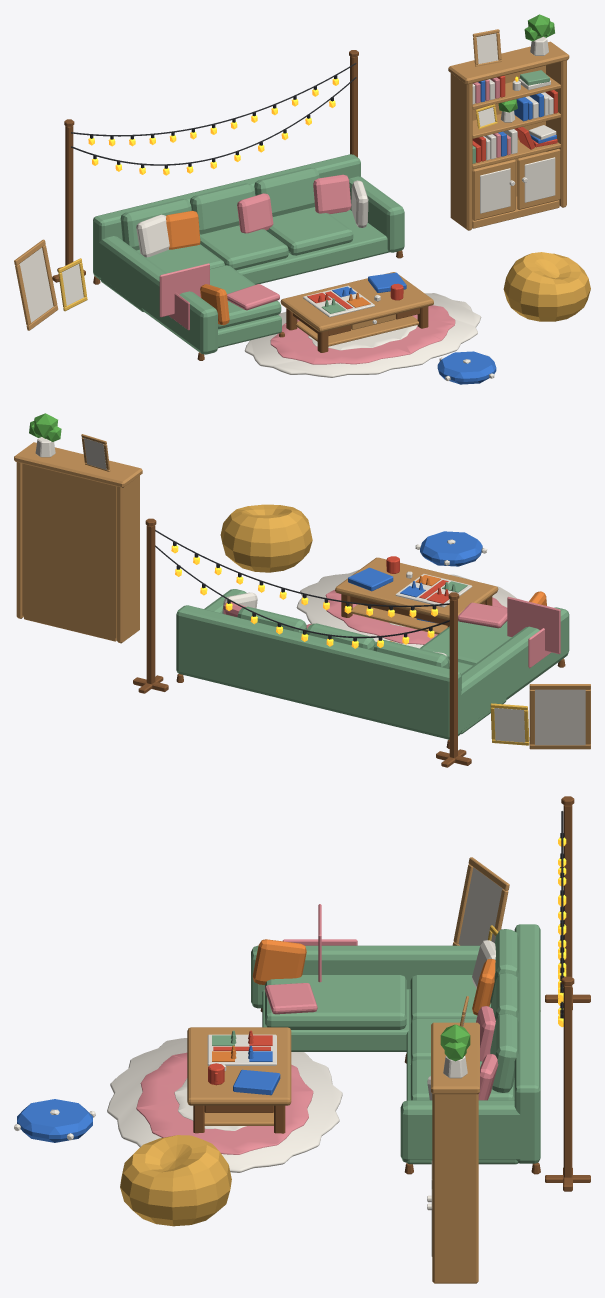
File: cosy-loft-lounge.glb
The picture shows the model from 3 angles, top to bottom: view 1: azimuth 30°, elevation 25°; view 2: azimuth 150°, elevation 25°; view 3: azimuth 270°, elevation 25°; orthographic projection. The views are drawn at different scales.
Visible parts, largest first — view 1: Sofa_ArmL, BeanBag_Body, Rug_Base, Rug_Top, Sofa_BaseMain, Shelf_SideL, Table_Top, Seat_3, Sofa_Back, Seat_2, Frame_Large, Shelf_Top (+37 smaller); view 2: Sofa_Back, Shelf_Back, BeanBag_Body, Sofa_ArmL, Frame_Large, Shelf_SideL, Table_Top, Shelf_Top, Seat_4, Rug_Base, Sofa_Blanket, FloorCushion_Body (+17 smaller); view 3: Shelf_SideR, BeanBag_Body, Rug_Base, Seat_4, Rug_Top, Sofa_ArmL, Sofa_Back, Table_Top, Sofa_ArmR, Frame_Large, Sofa_BaseChaise, Seat_1 (+18 smaller).
Boxes of the visible parts, x1,y1,x2,y2 form: Sofa_ArmL: (99,236,217,354); BeanBag_Body: (503,252,590,321); Rug_Base: (244,293,481,377); Rug_Top: (270,305,455,364); Sofa_BaseMain: (100,210,388,312); Shelf_SideL: (450,73,472,230); Table_Top: (280,272,433,332); Seat_3: (266,207,353,255); Sofa_Back: (93,154,360,280); Seat_2: (200,225,288,270); Frame_Large: (14,239,58,330); Shelf_Top: (448,41,569,84); Sofa_Back: (176,605,461,739); Shelf_Back: (22,463,116,638); BeanBag_Body: (220,504,312,572); Sofa_ArmL: (460,607,569,733); Frame_Large: (529,684,590,749); Shelf_SideL: (117,476,139,643); Table_Top: (335,557,498,620); Shelf_Top: (14,442,142,487); Seat_4: (420,621,511,665); Rug_Base: (296,569,521,648); Sofa_Blanket: (507,596,560,654); FloorCushion_Body: (420,531,482,566); Shelf_SideR: (432,1093,478,1283); BeanBag_Body: (120,1135,231,1226); Rug_Base: (107,1038,342,1172); Seat_4: (265,975,406,1029); Rug_Top: (136,1052,313,1154); Sofa_ArmL: (251,945,479,1008); Sofa_Back: (514,924,540,1163); Table_Top: (187,1027,291,1105); Sofa_ArmR: (400,1100,520,1163); Frame_Large: (452,857,509,945); Sofa_BaseChaise: (262,989,408,1051); Seat_1: (410,975,490,1023).
Bounding box in the file's own units: 28.08 × 9.5 × 20.02.
